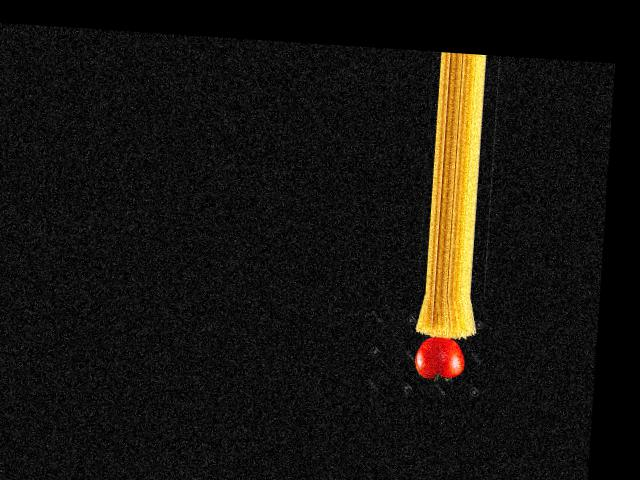tomato: (415, 335, 466, 380)
